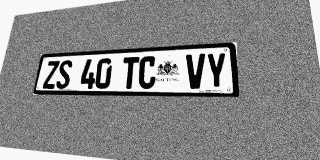0: (94, 58, 113, 89)
4: (79, 59, 98, 89)
C: (138, 56, 157, 89)
S: (55, 60, 73, 89)
T: (121, 57, 139, 89)
V: (185, 53, 205, 89)
Y: (206, 52, 227, 89)
Z: (42, 60, 60, 89)
